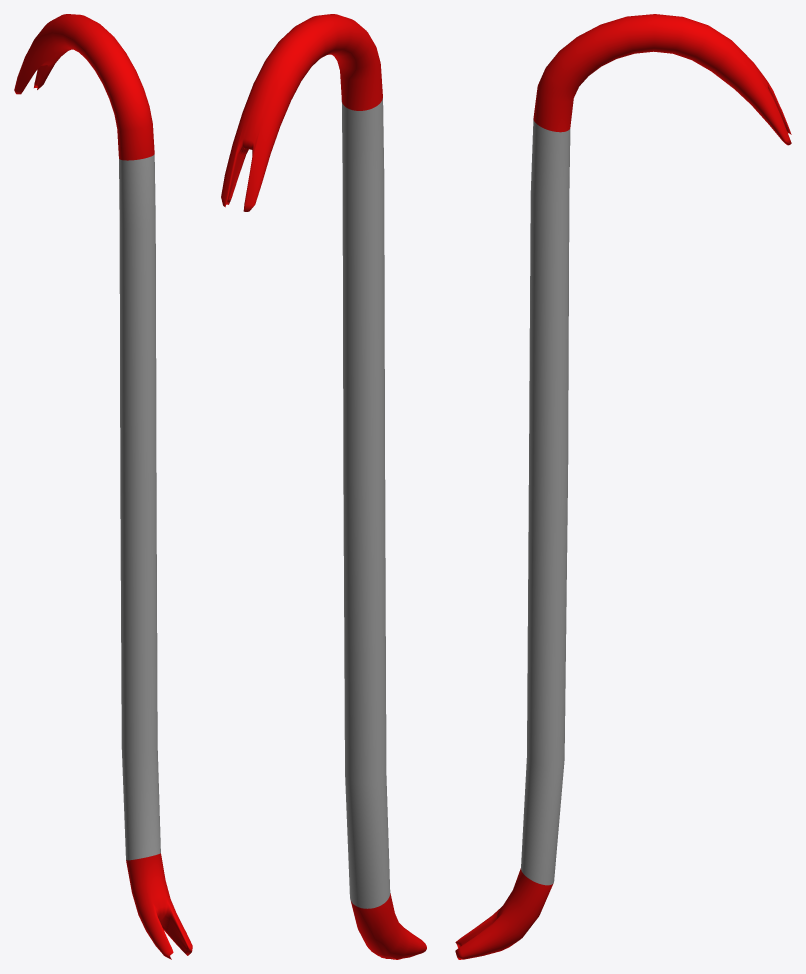
The model's file is Crowbar.fbx.
3 renders of one model, left to right at view 1: azimuth 30°, elevation 25°; view 2: azimuth 150°, elevation 25°; view 3: azimuth 270°, elevation 25°, orthographic. The views are drawn at different scales.
Parts seen in each view (by area): view 1: Crowbar; view 2: Crowbar; view 3: Crowbar.
Boxes of the visible parts, x1,y1,x2,y2 form: Crowbar: (14, 14, 192, 959); Crowbar: (221, 14, 426, 959); Crowbar: (455, 14, 791, 959).
Size of the model in its own units: 1.98 by 52.25 by 16.95.
